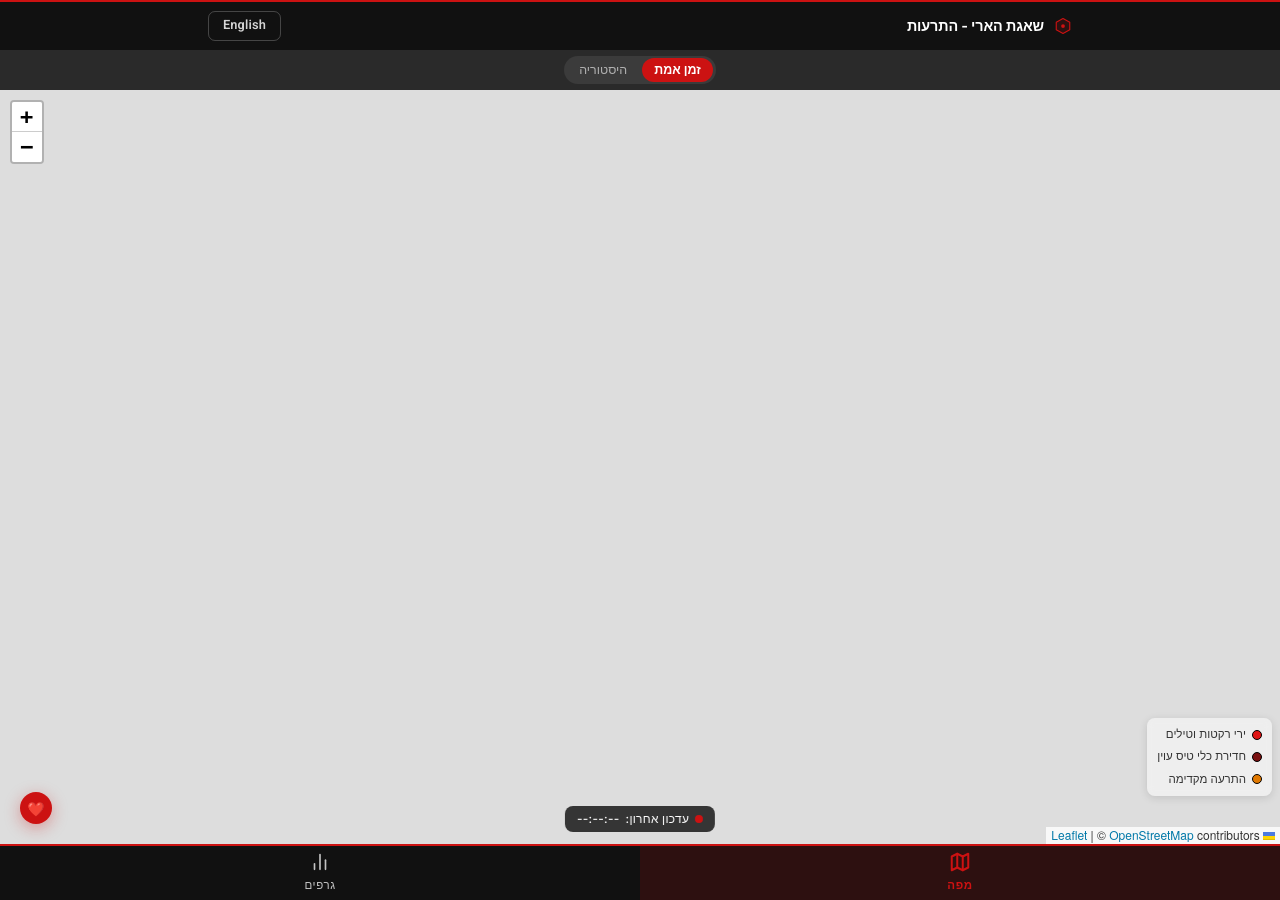
Test case: Page user-flow tests › language toggle switches UI to English
The width and height of the screenshot is (1280, 900).
Click the button "גרפים" at (320, 873), box top-left (0, 846), bottom-right (640, 899)
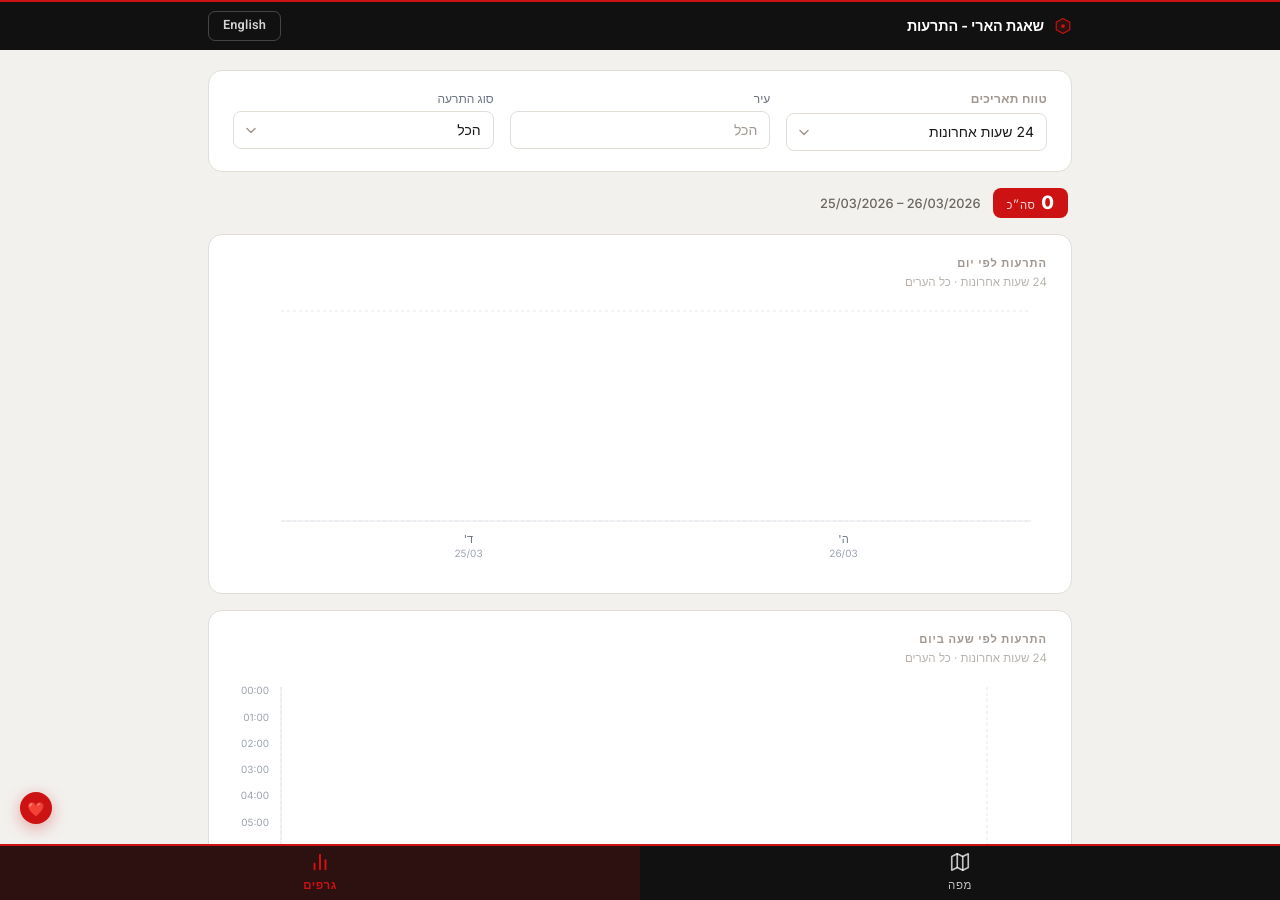
Click the button with aria-label "toggle language" at (244, 26), box top-left (208, 11), bottom-right (281, 41)
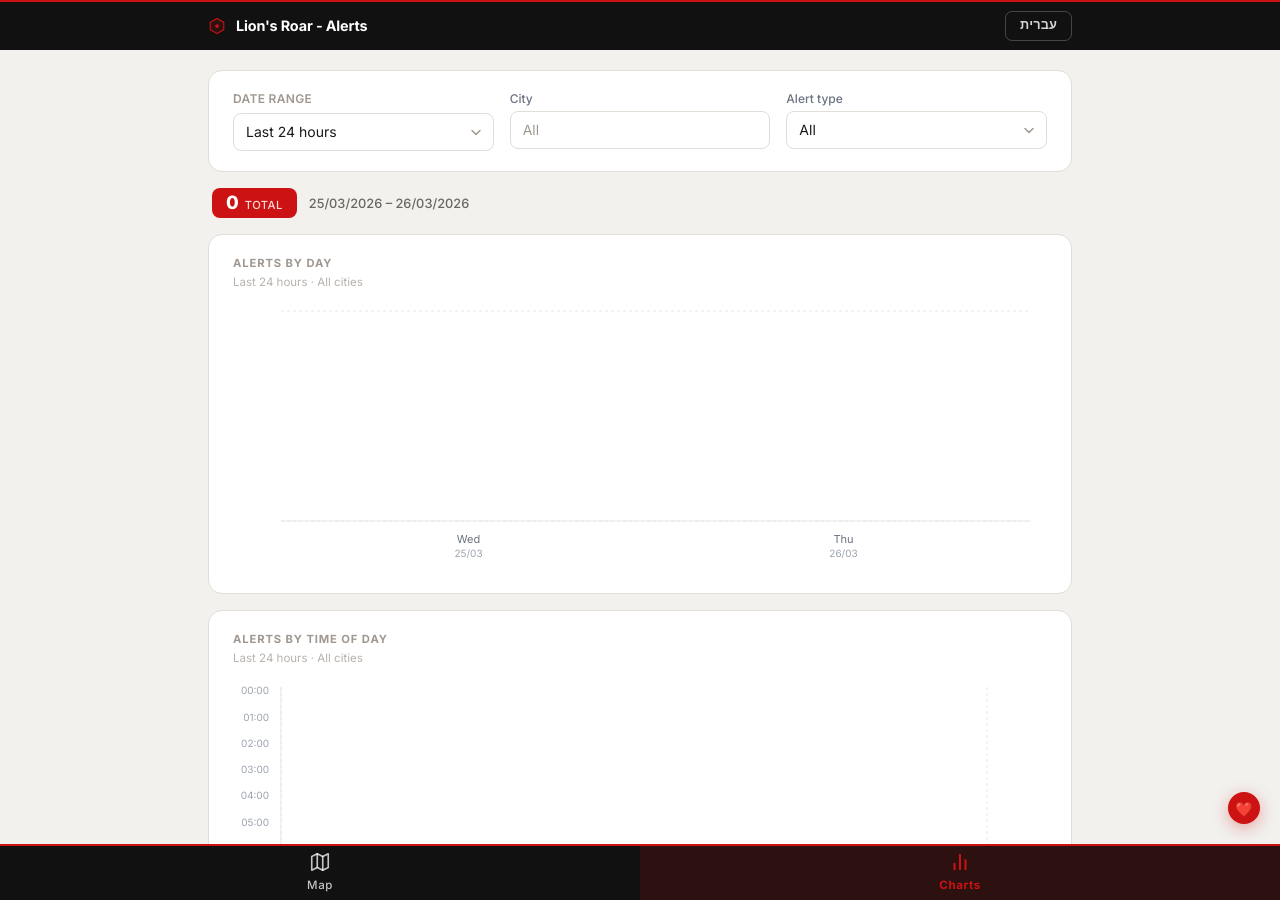
Expected: the button with aria-label "toggle language" reads "עברית", top-left (1005, 11), bottom-right (1072, 41)
Expected: the text "Alerts by Day" is shown, top-left (233, 256), bottom-right (332, 270)
Expected: the text "Alerts by Time of Day" is shown, top-left (233, 632), bottom-right (388, 646)
